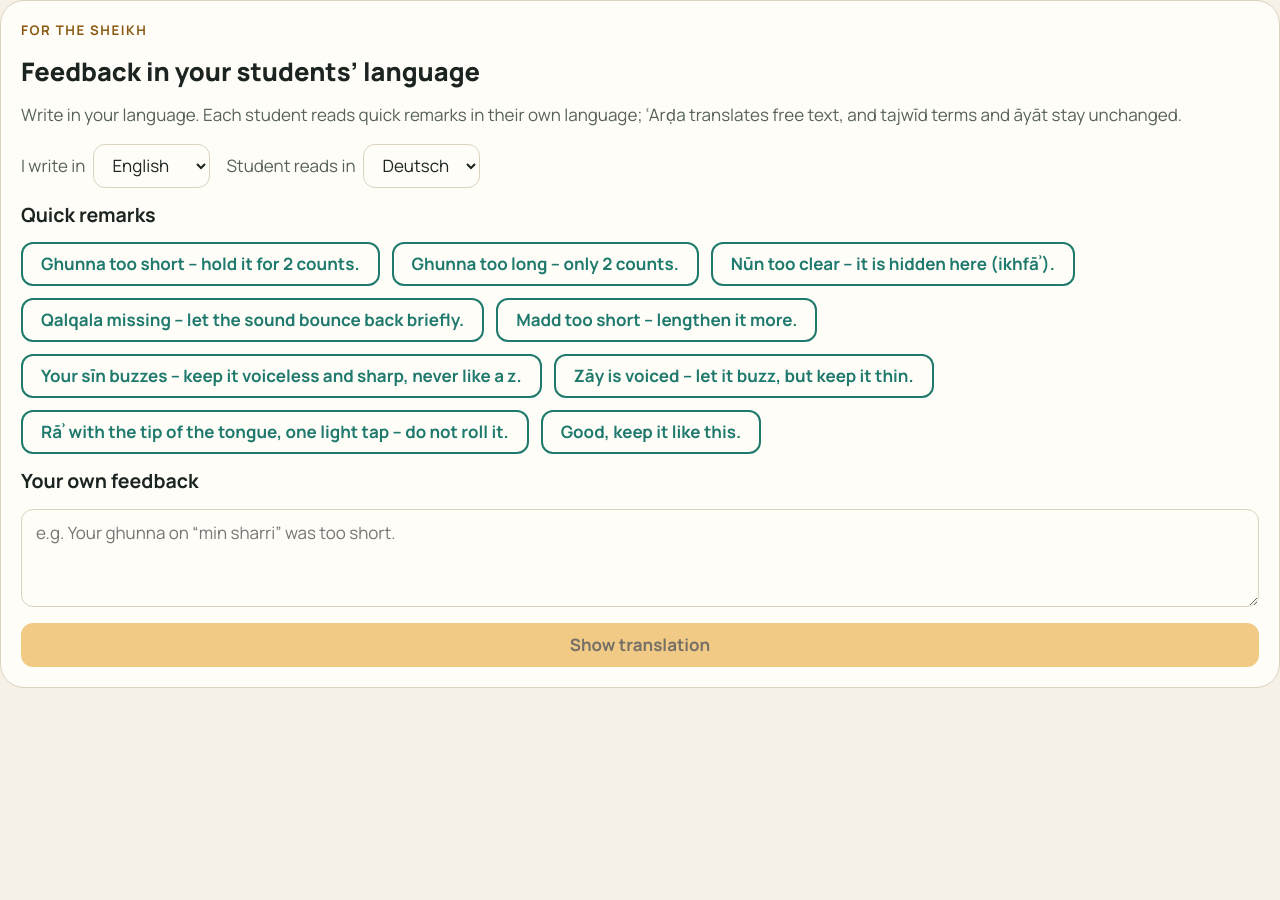
FeedbackComposer (ADR-0020) › says when translation is unavailable and that the student gets the original
Type "Hold it longer." into the text box named "Your own feedback" at (640, 558), box x1=21 y1=509 x2=1259 y2=607
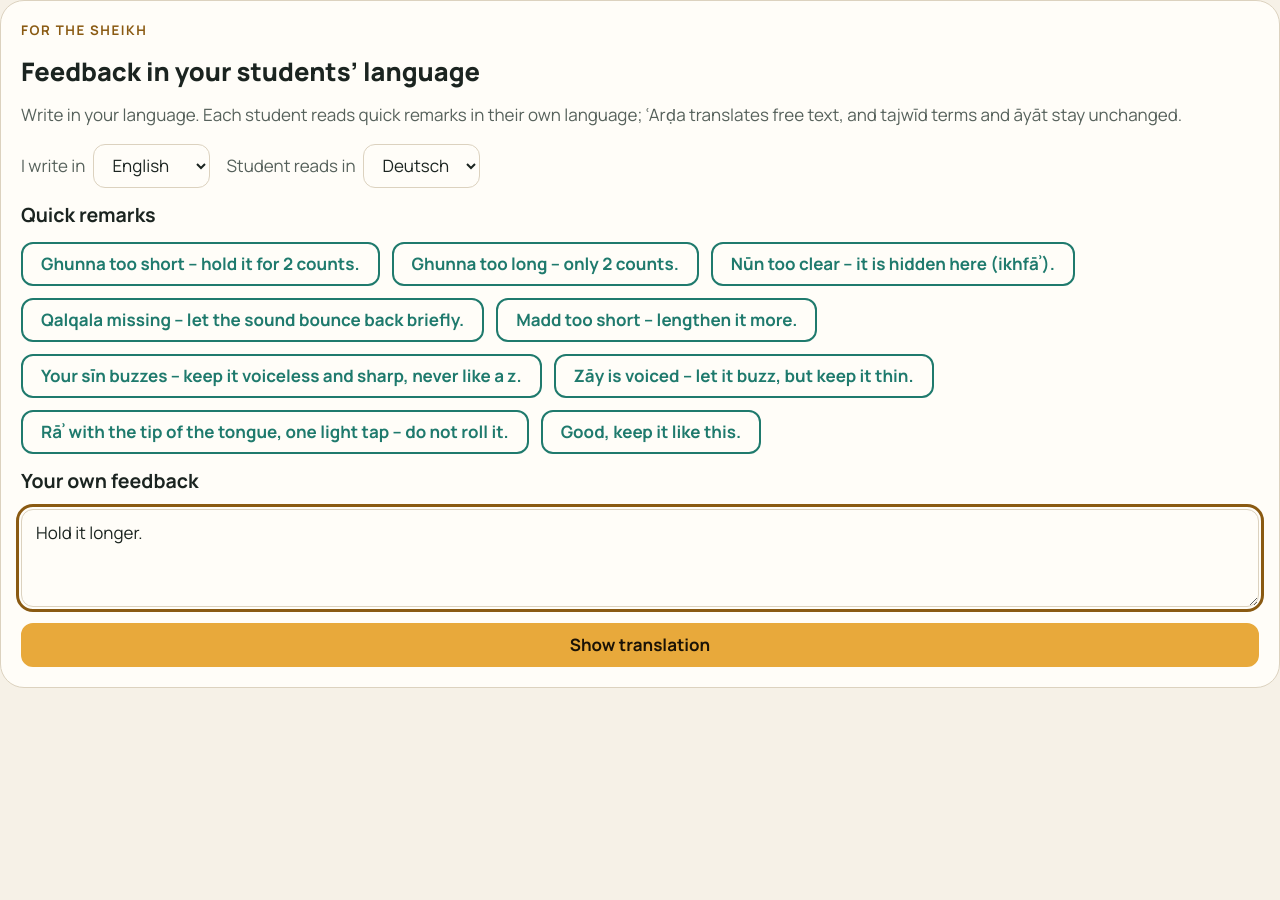
Click the button "Show translation" at (640, 645), box x1=21 y1=623 x2=1259 y2=667
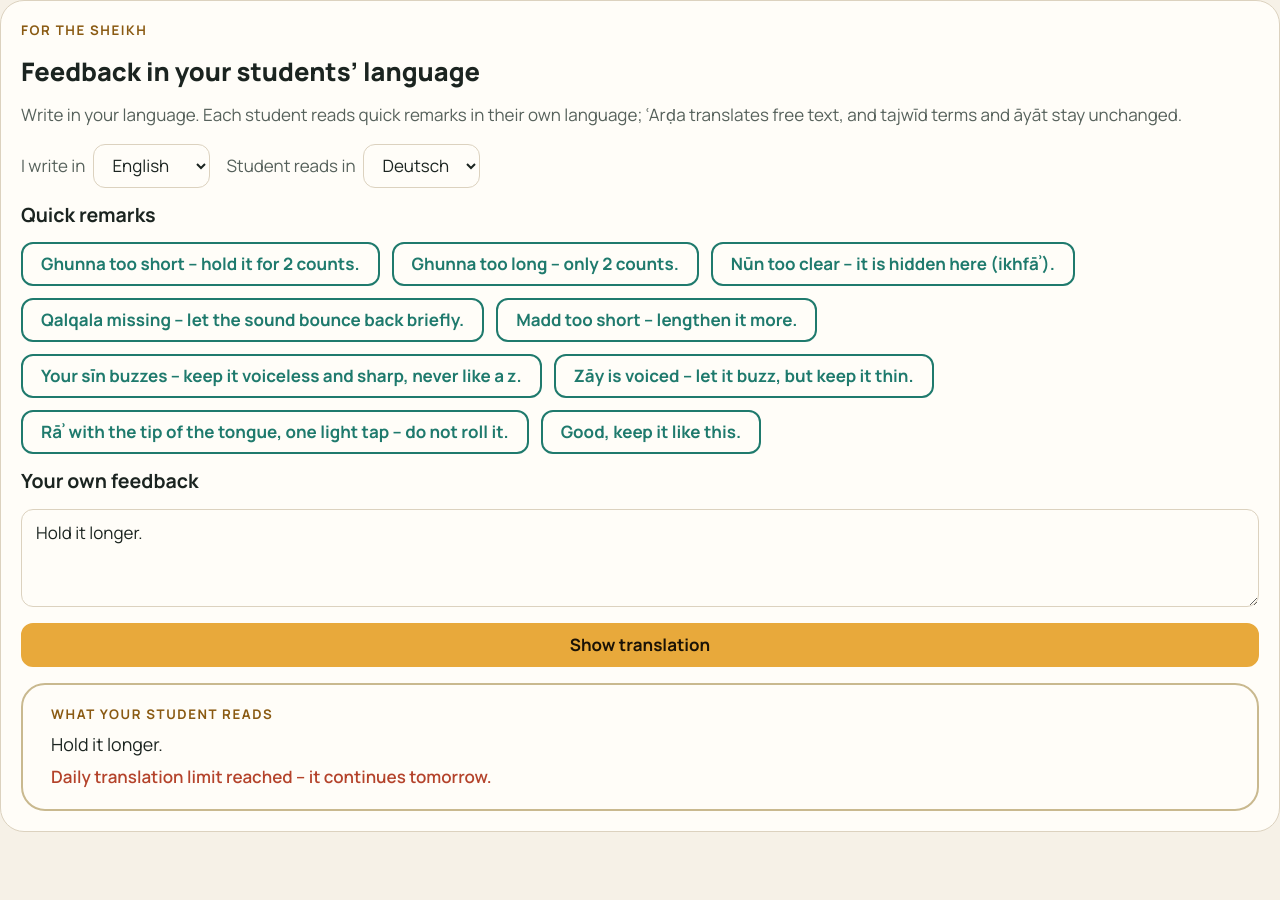
Check: the text "Daily translation limit reached – it continues tomorrow." is shown, box x1=51 y1=765 x2=492 y2=788
